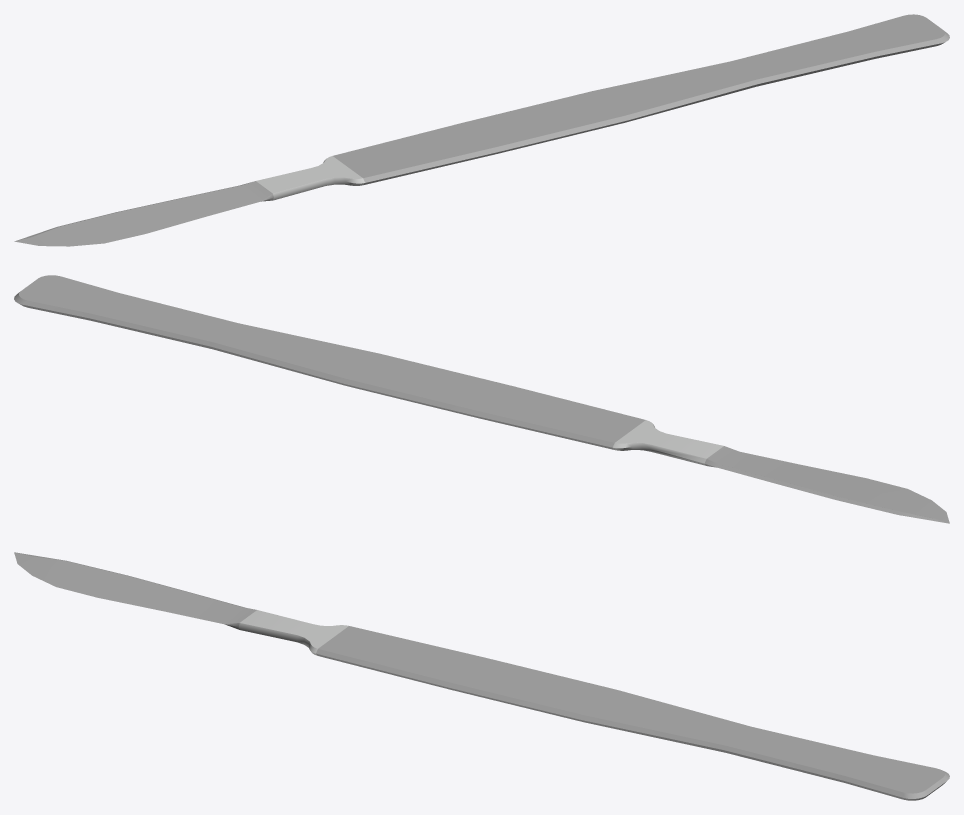
File: Scalpel.fbx
3 renders of one model, top to bottom at view 1: azimuth 30°, elevation 25°; view 2: azimuth 150°, elevation 25°; view 3: azimuth 330°, elevation 25°, orthographic. The views are drawn at different scales.
Parts seen in each view (by area): view 1: pCube1; view 2: pCube1; view 3: pCube1.
Part boxes in pixels (box(x1,y1,x2,y2)): pCube1: box(14, 14, 949, 246); pCube1: box(14, 275, 949, 523); pCube1: box(14, 552, 949, 800).
Size of the model in its own units: 8.71 by 0.0644 by 0.6281.
